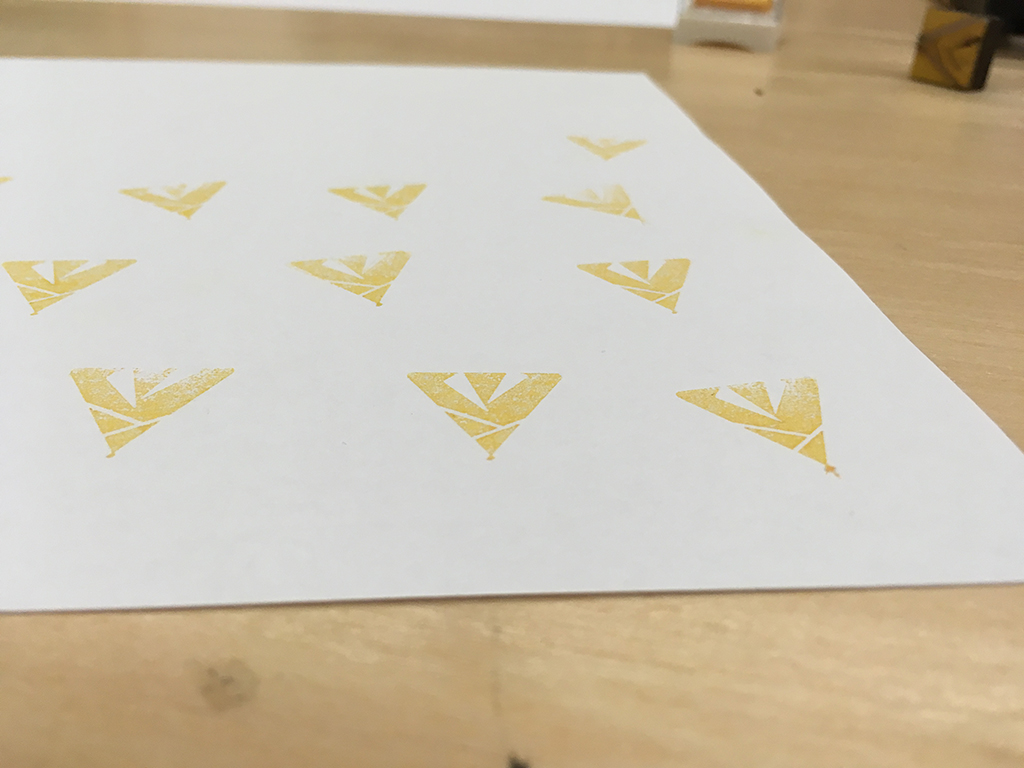tent: (670, 364, 854, 488), (390, 358, 574, 479), (61, 351, 240, 464), (1, 240, 146, 325), (283, 239, 423, 316), (569, 247, 700, 317), (529, 170, 666, 231), (113, 172, 237, 227), (320, 176, 443, 231), (561, 123, 659, 168)
